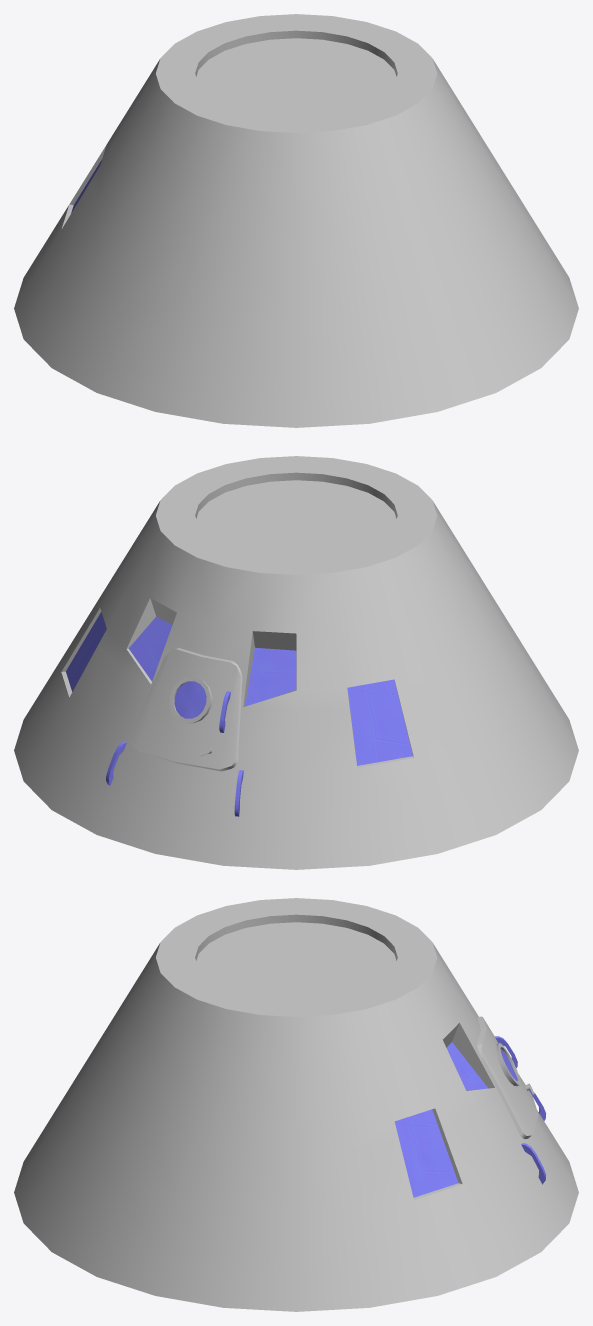
File: Apollo_Block3_Capsule.dae
The picture shows the model from 3 angles, top to bottom: view 1: azimuth 30°, elevation 25°; view 2: azimuth 150°, elevation 25°; view 3: azimuth 270°, elevation 25°; orthographic projection.
Parts seen in each view (by area): view 1: Apollo_Capsule4; view 2: Apollo_Capsule4, polySurface38; view 3: Apollo_Capsule4, polySurface38.
Part boxes in pixels (left/top/right/bottom): Apollo_Capsule4: left=14, top=14, right=578, bottom=427; Apollo_Capsule4: left=14, top=456, right=578, bottom=869; polySurface38: left=66, top=612, right=412, bottom=765; Apollo_Capsule4: left=14, top=898, right=578, bottom=1311; polySurface38: left=394, top=1042, right=517, bottom=1197.
Size of what is drawn, in the model's own units: 2.5 by 1.15 by 2.5.
